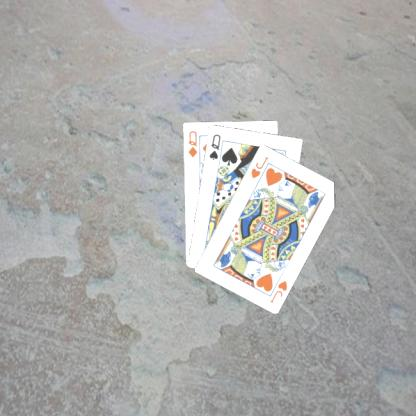JH: (247, 153, 270, 180), (267, 278, 289, 304)
QD: (185, 128, 198, 159)
QS: (206, 131, 222, 161)
